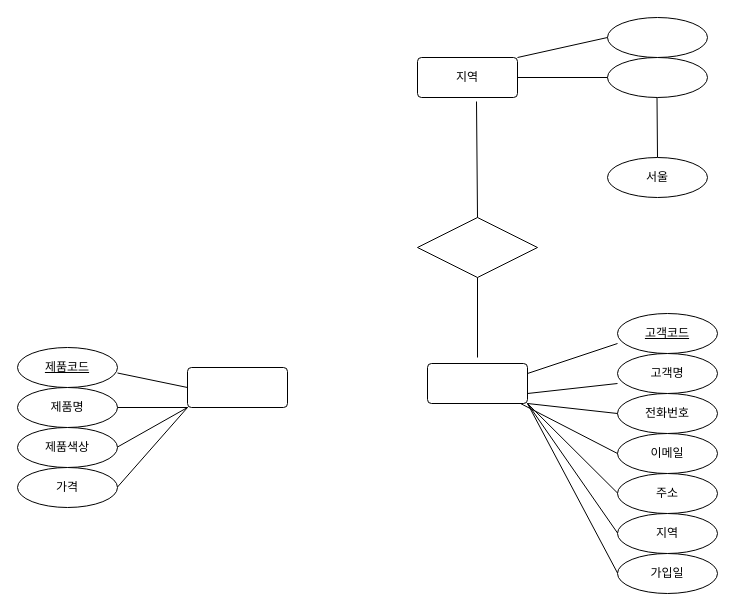
Image size: 735x611. Some labels were removed from this diagram. The shapes that lost their labels are listed below. From the top down, each one's centre as x and y in pixels, then its label:
At [657,37]: "지역코드".
At [657,77]: "지역명".
At [477,247]: "등록".
At [237,387]: "제품".
At [477,383]: "고객".
